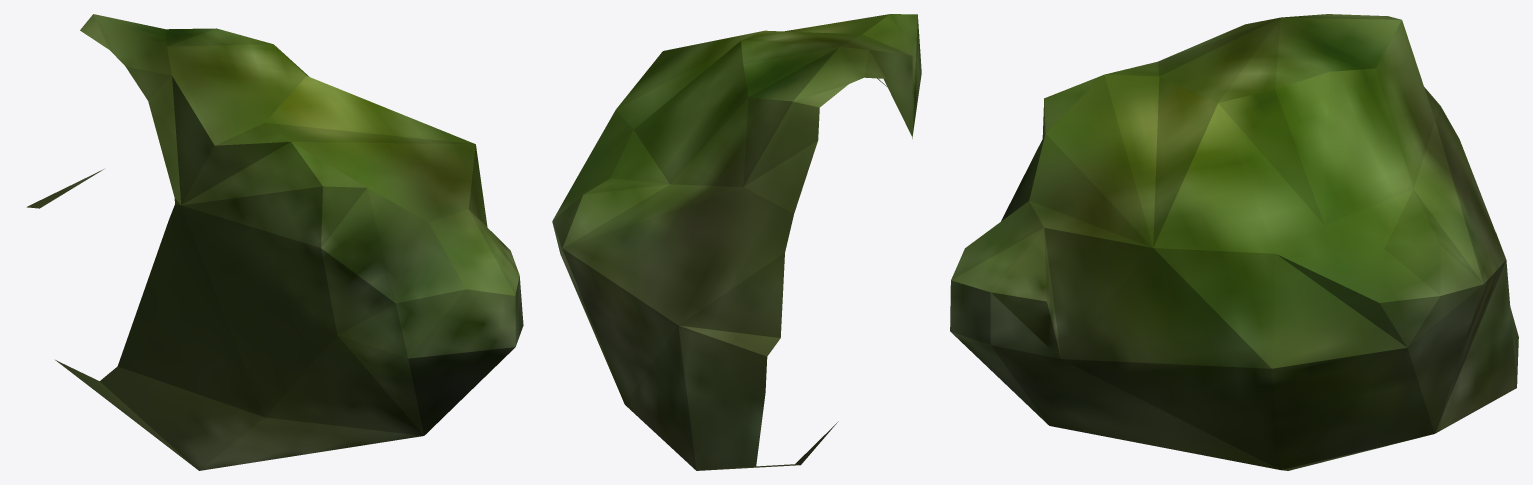
3 renders of one model, left to right at view 1: azimuth 30°, elevation 25°; view 2: azimuth 150°, elevation 25°; view 3: azimuth 270°, elevation 25°, orthographic. The views are drawn at different scales.
Bounding box in the file's own units: 0.0649 × 0.0921 × 0.109.
Materials: 1 (1 with a texture image).
